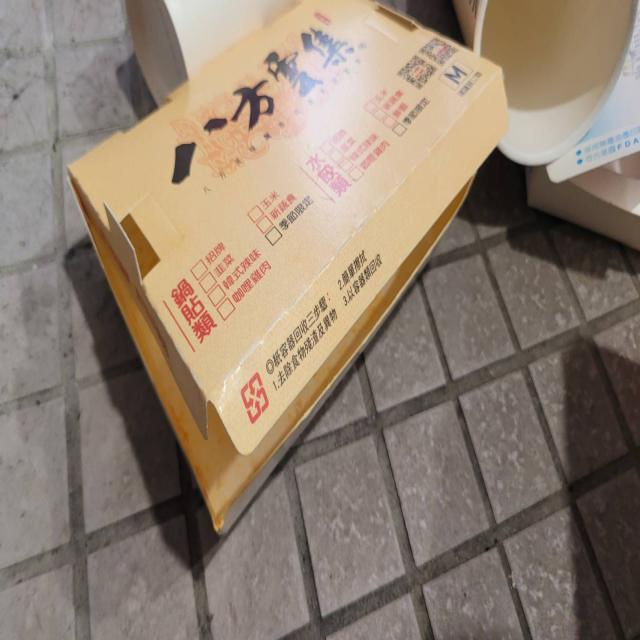Paper bowl: (62, 0, 504, 535), (470, 0, 619, 169), (550, 108, 640, 263), (122, 0, 225, 100)
